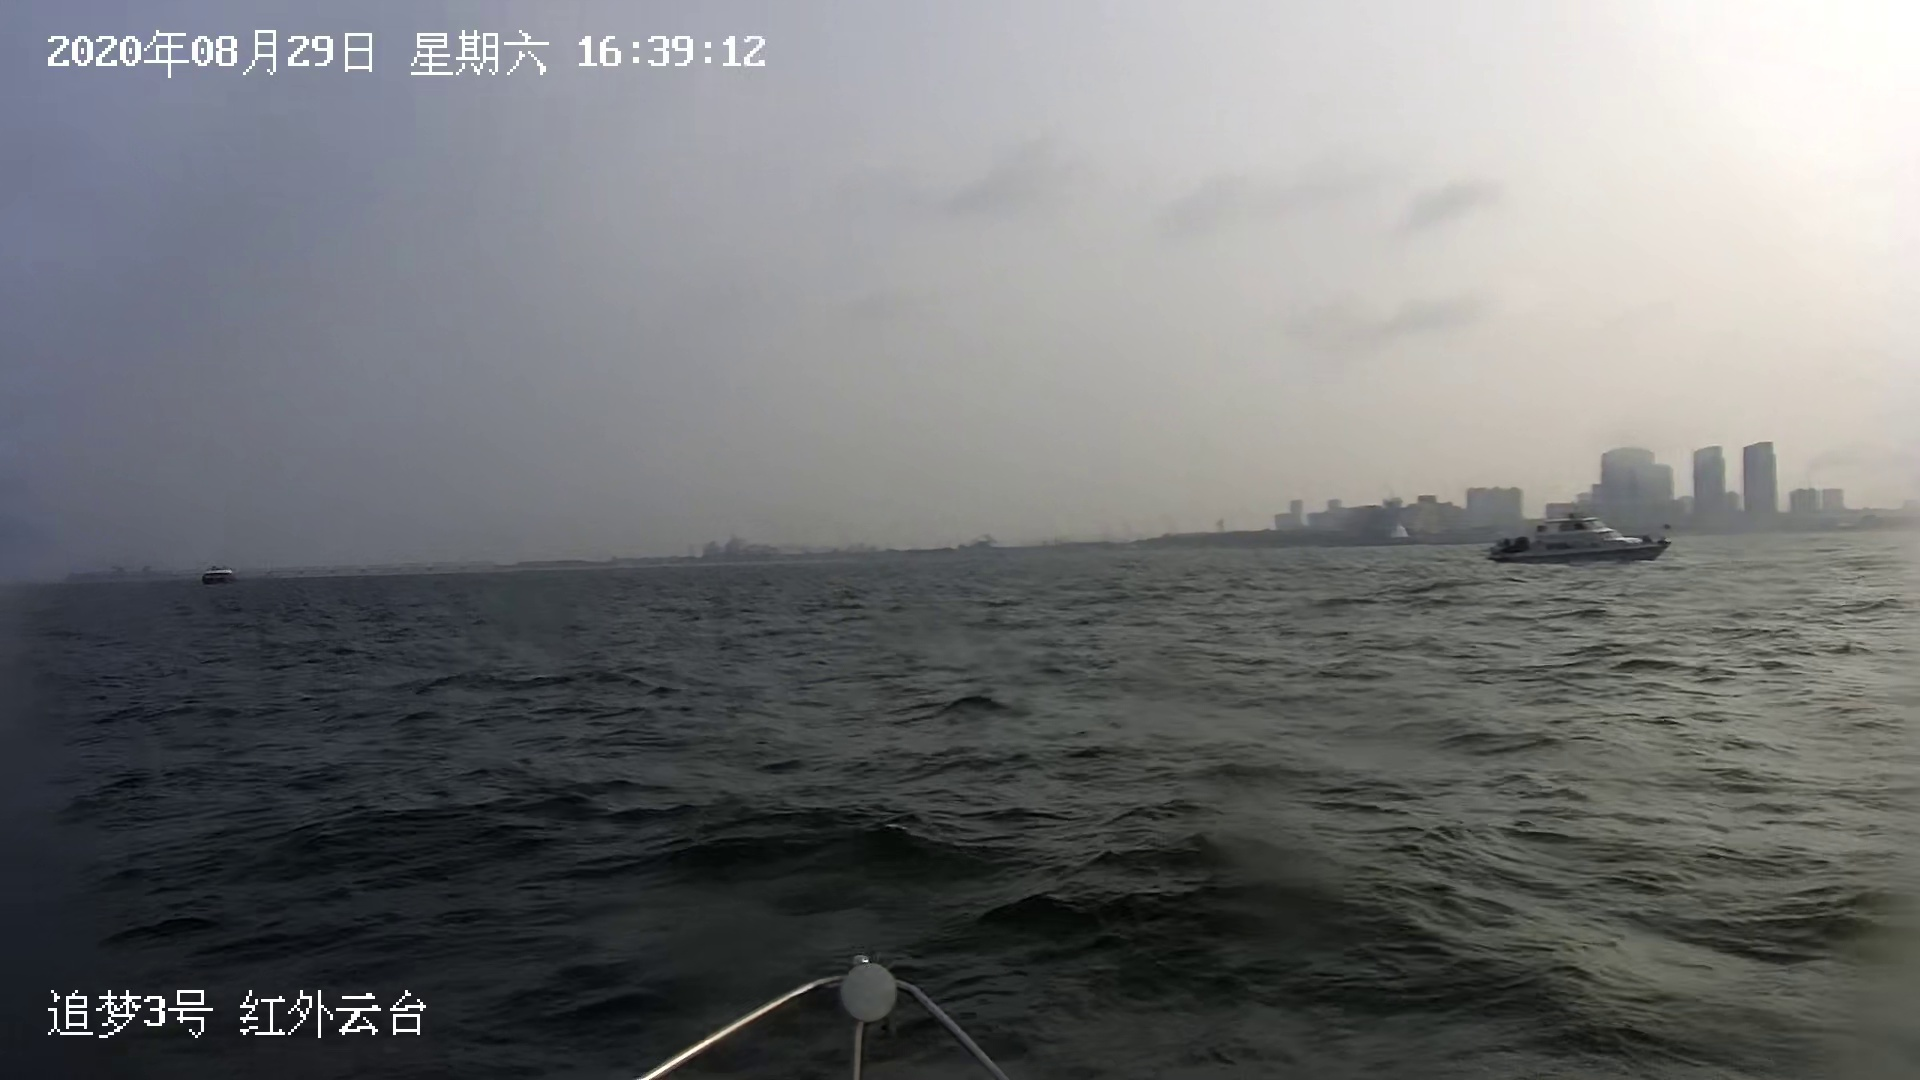barrier: (1489, 506, 1669, 570), (199, 563, 237, 583)
coast: (0, 440, 1917, 582)
this: (629, 952, 1017, 1079)
